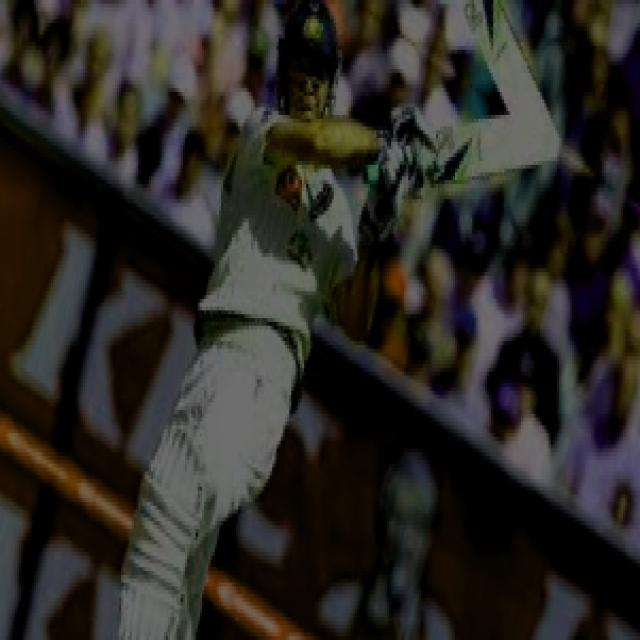toe: (528, 128, 560, 164)
